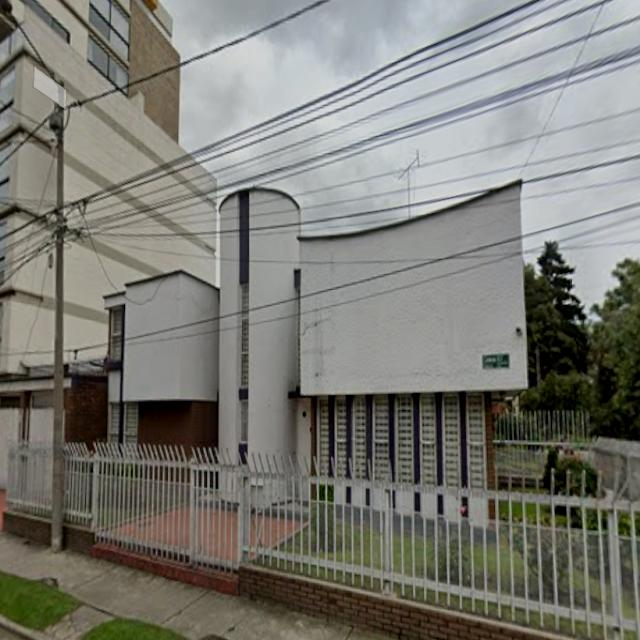fachada: (220, 184, 527, 516), (0, 0, 216, 361), (65, 162, 216, 355), (105, 271, 219, 449), (0, 367, 53, 490)
poste: (51, 106, 65, 552), (536, 344, 541, 384)
